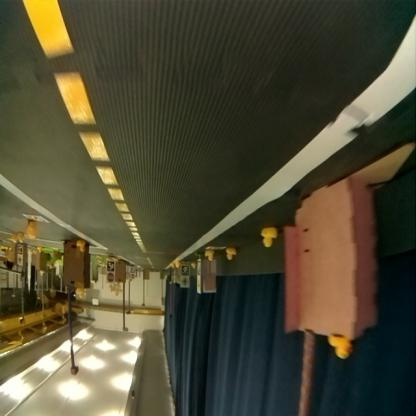Duckie: (328, 336, 352, 357), (260, 230, 276, 248), (26, 222, 34, 238), (226, 250, 234, 260), (206, 251, 212, 261), (77, 243, 83, 252), (11, 236, 17, 244), (76, 292, 82, 299), (191, 262, 196, 270), (170, 262, 176, 268), (176, 261, 181, 268), (19, 235, 22, 243)
QR code: (25, 216, 42, 223), (107, 263, 112, 271)
Stop sign: (108, 274, 112, 282)
